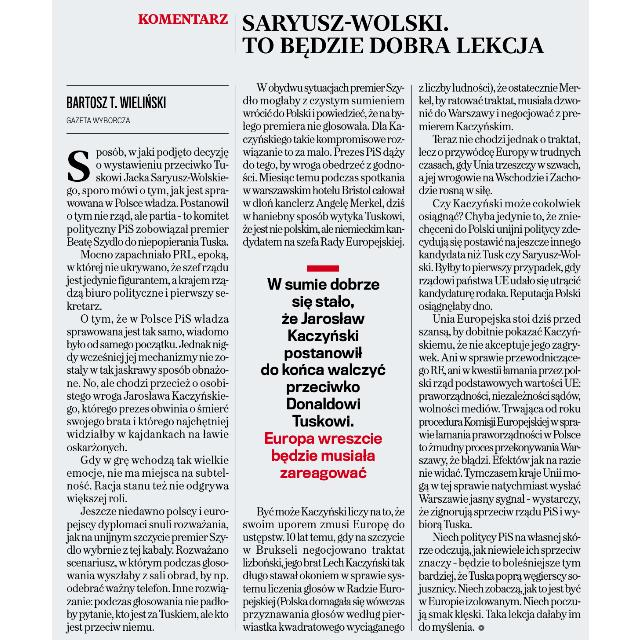author: (58, 90, 180, 114)
body: (415, 78, 589, 636), (54, 138, 232, 636), (242, 255, 410, 487), (240, 76, 408, 252), (239, 502, 409, 634)
title: (237, 11, 555, 61)
